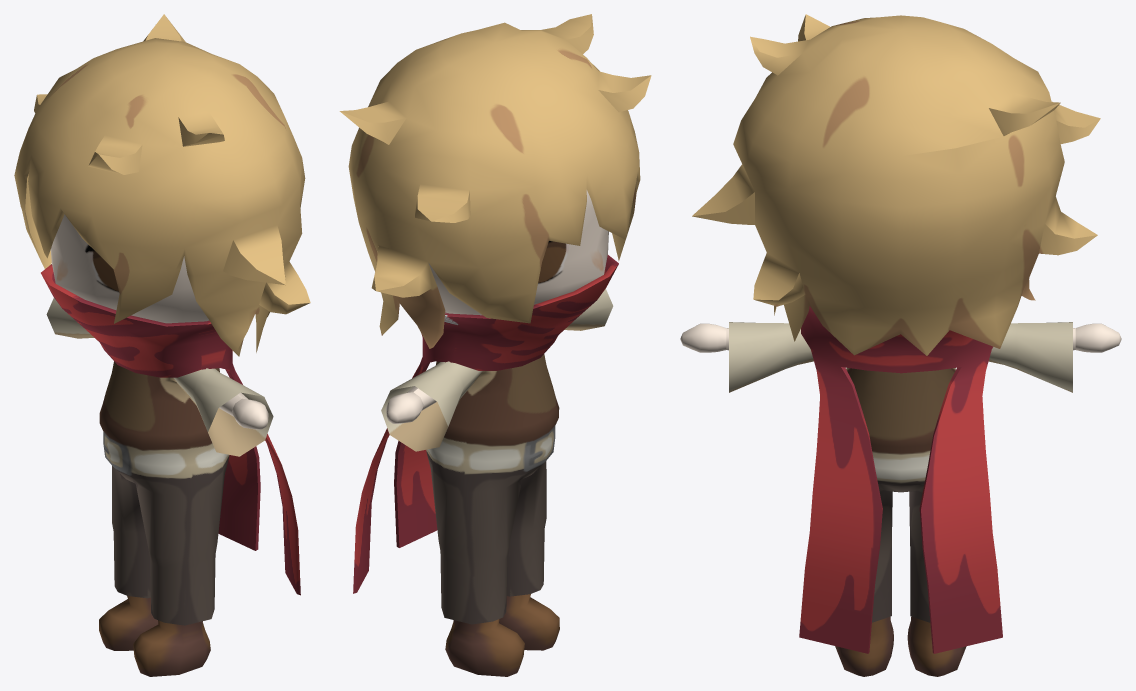
The model's file is Character_First.fbx.
3 views of the same model, side by side, from view 1: azimuth 30°, elevation 25°; view 2: azimuth 150°, elevation 25°; view 3: azimuth 270°, elevation 25° (orthographic). The views are drawn at different scales.
Parts seen in each view (by area): view 1: Cylinder006; view 2: Cylinder006; view 3: Cylinder006.
Boxes of the visible parts, x1,y1,x2,y2 form: Cylinder006: (14, 14, 310, 676); Cylinder006: (339, 14, 651, 676); Cylinder006: (680, 14, 1121, 676).
Size of the model in its own units: 52.29 by 118 by 74.71.
1 material, 1 textured.
